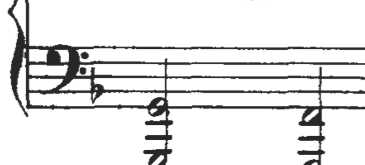bass_clef: (38, 32, 89, 100)
flat: (86, 64, 106, 105)
